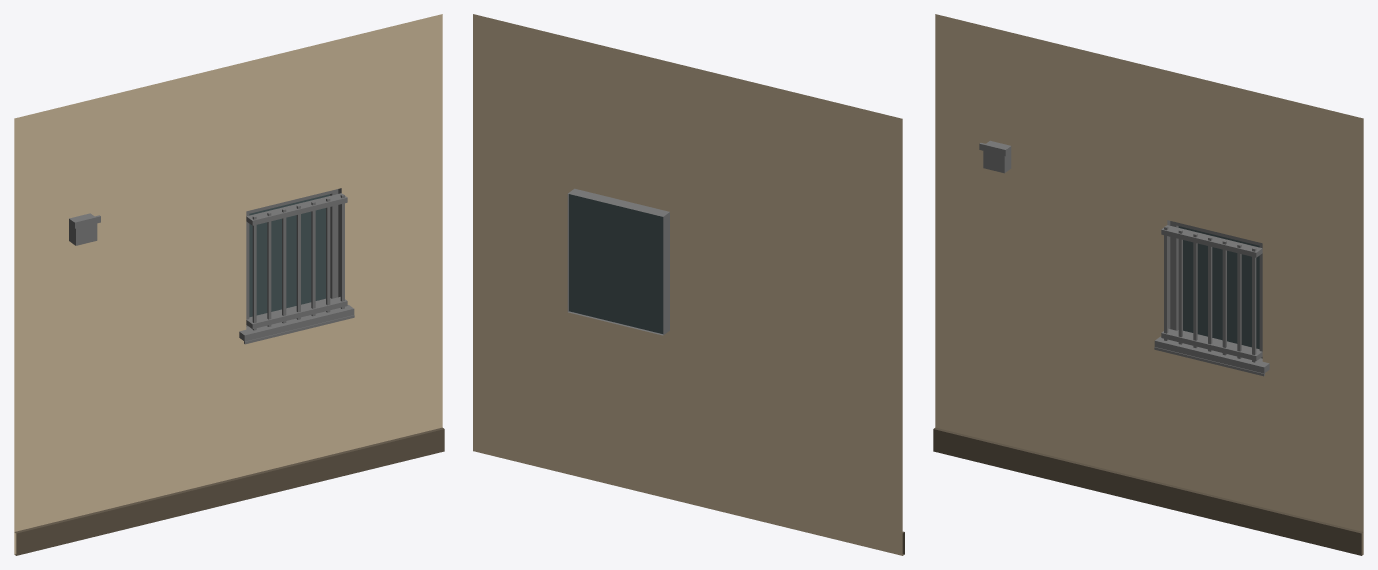
Rendered from top-w4_close.fbx.
The picture shows the model from 3 angles, left to right: view 1: azimuth 30°, elevation 25°; view 2: azimuth 150°, elevation 25°; view 3: azimuth 330°, elevation 25°; orthographic projection.
Visible parts, largest first — view 1: a2000/400/top-w4_close; view 2: a2000/400/top-w4_close; view 3: a2000/400/top-w4_close.
Part boxes in pixels (x1,y1,x2,y2): a2000/400/top-w4_close: [14, 14, 444, 555]; a2000/400/top-w4_close: [473, 14, 904, 555]; a2000/400/top-w4_close: [933, 14, 1363, 555].
Bounding box in the file's own units: 3.6 × 3.5 × 0.22.
